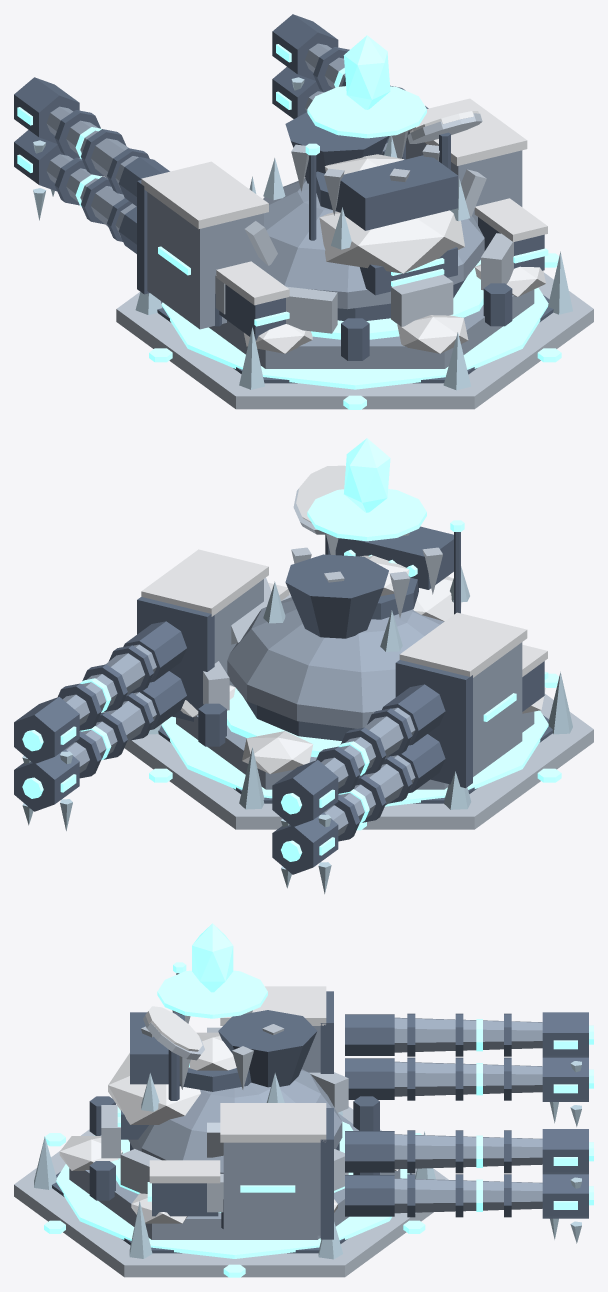
Rendered from turret_lvl8.fbx.
3 renders of one model, top to bottom at view 1: azimuth 30°, elevation 25°; view 2: azimuth 150°, elevation 25°; view 3: azimuth 270°, elevation 25°, orthographic. The views are drawn at different scales.
Parts seen in each view (by area): view 1: BaseTier_81, PodBody_07, Dome_05, Neon_BaseRing2_111, MissileRack_98, Base_01, SnowBlanket_112, SnowPod_129, Neon_CoreRing_110, SnowPod_130, PodBody_34, CentreSensor_61 (+43 smaller); view 2: Dome_05, BaseTier_81, CentreSensor_61, SnowPod_130, SnowPod_129, PodPlate_08, PodBody_07, Neon_BaseRing2_111, Neon_CoreRing_110, PodPlate_35, MissileRack_98, MuzzleBrake_28 (+37 smaller); view 3: BaseTier_81, PodBody_34, Dome_05, Neon_BaseRing2_111, CentreSensor_61, SnowPod_130, Neon_CoreRing_110, BarrelTube_38, BarrelTube_23, BarrelTube_50, BarrelTube_11, Base_01 (+37 smaller).
Boxes of the visible parts, left/top/right/bottom form: BaseTier_81: left=116, top=272, right=593, bottom=409; PodBody_07: left=147, top=192, right=263, bottom=329; Dome_05: left=254, top=178, right=484, bottom=309; Neon_BaseRing2_111: left=161, top=287, right=548, bottom=389; MissileRack_98: left=336, top=155, right=458, bottom=230; Base_01: left=209, top=289, right=534, bottom=368; SnowBlanket_112: left=319, top=210, right=464, bottom=273; SnowPod_129: left=141, top=161, right=268, bottom=229; Neon_CoreRing_110: left=307, top=86, right=426, bottom=138; SnowPod_130: left=408, top=98, right=527, bottom=165; PodBody_34: left=406, top=131, right=522, bottom=224; CentreSensor_61: left=285, top=112, right=388, bottom=183; Dome_05: left=227, top=597, right=444, bottom=728; BaseTier_81: left=124, top=694, right=593, bottom=829; CentreSensor_61: left=285, top=554, right=388, bottom=638; SnowPod_130: left=141, top=549, right=268, bottom=616; SnowPod_129: left=399, top=612, right=527, bottom=677; PodPlate_08: left=395, top=660, right=472, bottom=788; PodBody_07: left=473, top=642, right=522, bottom=776; Neon_BaseRing2_111: left=161, top=710, right=548, bottom=806; Neon_CoreRing_110: left=307, top=489, right=426, bottom=541; PodPlate_35: left=137, top=597, right=214, bottom=721; MissileRack_98: left=335, top=526, right=453, bottom=589; MuzzleBrake_28: left=272, top=760, right=338, bottom=826; BaseTier_81: left=14, top=1106, right=448, bottom=1277; PodBody_34: left=223, top=1142, right=320, bottom=1235; Dome_05: left=128, top=1069, right=342, bottom=1173; Neon_BaseRing2_111: left=56, top=1135, right=409, bottom=1258; CentreSensor_61: left=218, top=1010, right=317, bottom=1087; SnowPod_130: left=220, top=1103, right=326, bottom=1142; Neon_CoreRing_110: left=157, top=970, right=267, bottom=1018; BarrelTube_38: left=394, top=1178, right=542, bottom=1213; BarrelTube_23: left=394, top=1017, right=542, bottom=1052; BarrelTube_50: left=394, top=1134, right=542, bottom=1169; BarrelTube_11: left=394, top=1061, right=542, bottom=1096; Base_01: left=69, top=1113, right=400, bottom=1239.
Size of the model in its own units: 629 by 437 by 841.
